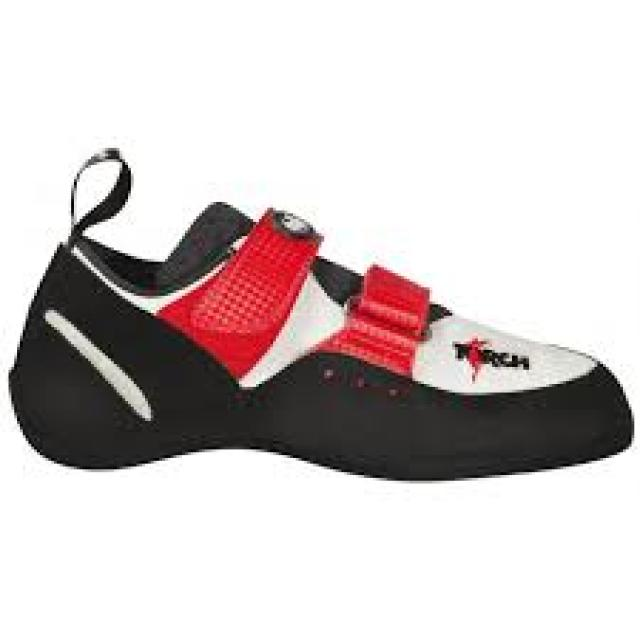climbing-shoes: (9, 143, 635, 481)
